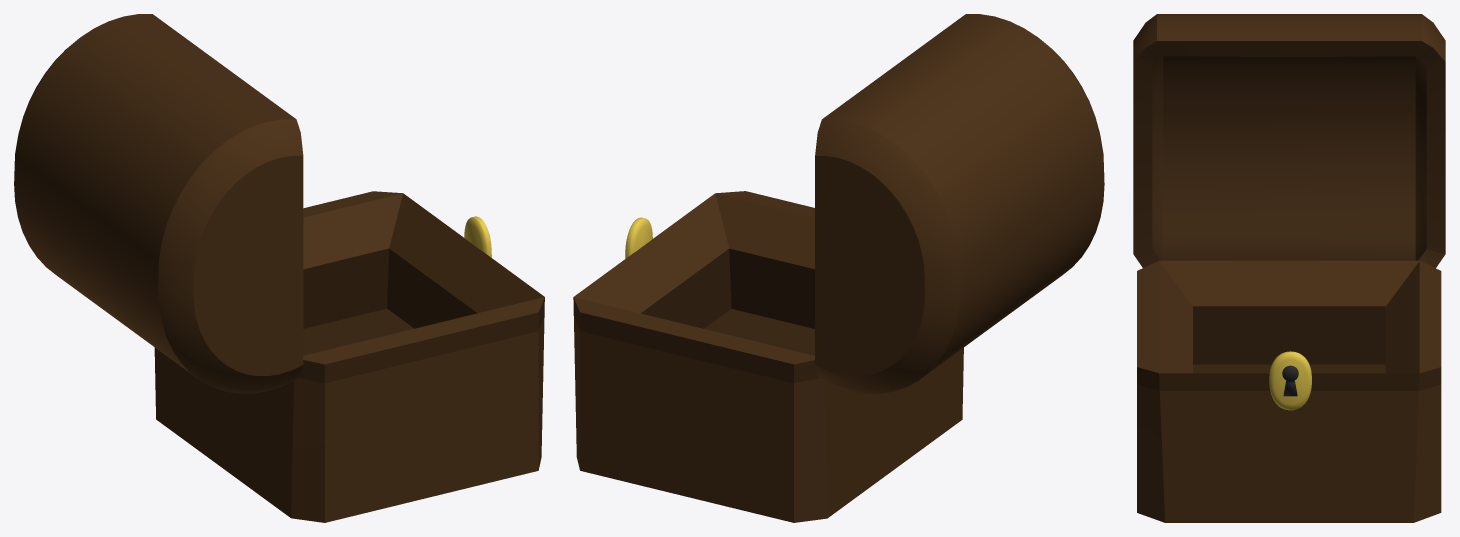
File: treasure.fbx
The picture shows the model from 3 angles, left to right: view 1: azimuth 30°, elevation 25°; view 2: azimuth 150°, elevation 25°; view 3: azimuth 270°, elevation 25°; orthographic projection. The views are drawn at different scales.
Parts seen in each view (by area): view 1: BézierCircle, Cube, BézierCircle.001; view 2: BézierCircle, Cube, BézierCircle.001; view 3: Cube, BézierCircle, BézierCircle.001.
Boxes of the visible parts, x1=… form: BézierCircle: x1=14, y1=14, x2=303, y2=393; Cube: x1=154, y1=191, x2=544, y2=522; BézierCircle.001: x1=464, y1=216, x2=491, y2=257; BézierCircle: x1=815, y1=14, x2=1104, y2=393; Cube: x1=573, y1=191, x2=963, y2=522; BézierCircle.001: x1=625, y1=217, x2=652, y2=258; Cube: x1=1137, y1=260, x2=1441, y2=522; BézierCircle: x1=1133, y1=14, x2=1445, y2=268; BézierCircle.001: x1=1269, y1=351, x2=1311, y2=410.
Size of the model in its own units: 309 by 300 by 227.
